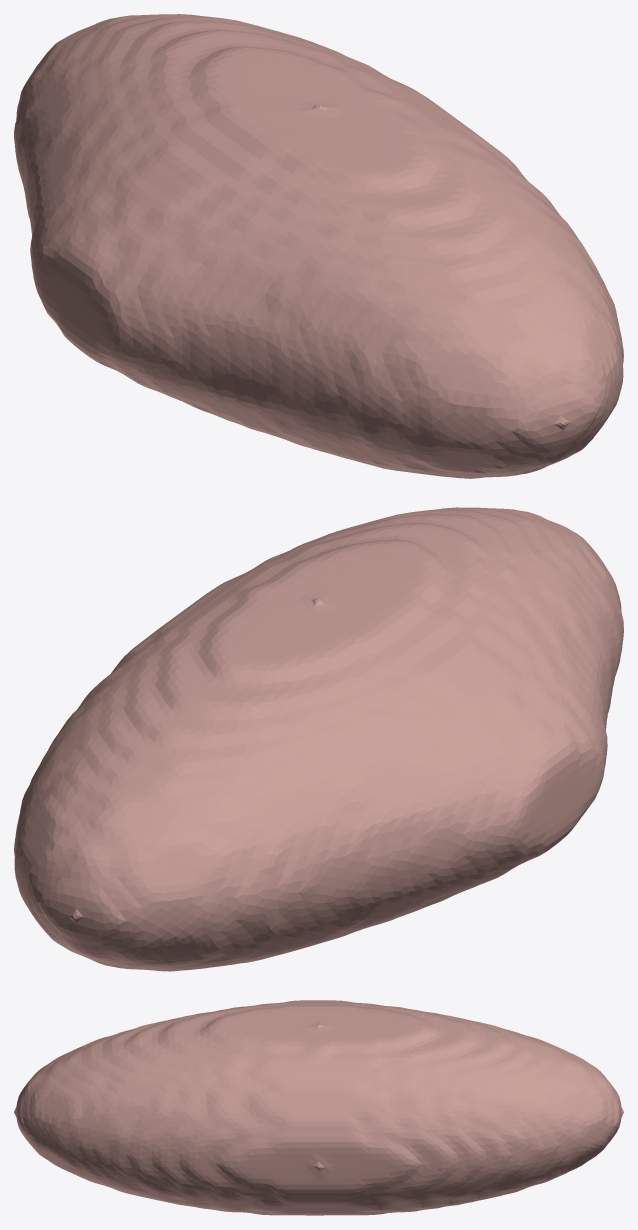
Rendered from kidney.glb.
The picture shows the model from 3 angles, top to bottom: view 1: azimuth 30°, elevation 25°; view 2: azimuth 150°, elevation 25°; view 3: azimuth 270°, elevation 25°; orthographic projection. The views are drawn at different scales.
Visible parts, largest first — view 1: geometry_0; view 2: geometry_0; view 3: geometry_0.
Part boxes in pixels (x1,y1,x2,y2): geometry_0: (14, 14, 623, 478); geometry_0: (14, 507, 623, 971); geometry_0: (14, 1000, 623, 1215).
Bounding box in the file's own units: 44.54 × 27.93 × 88.08.
